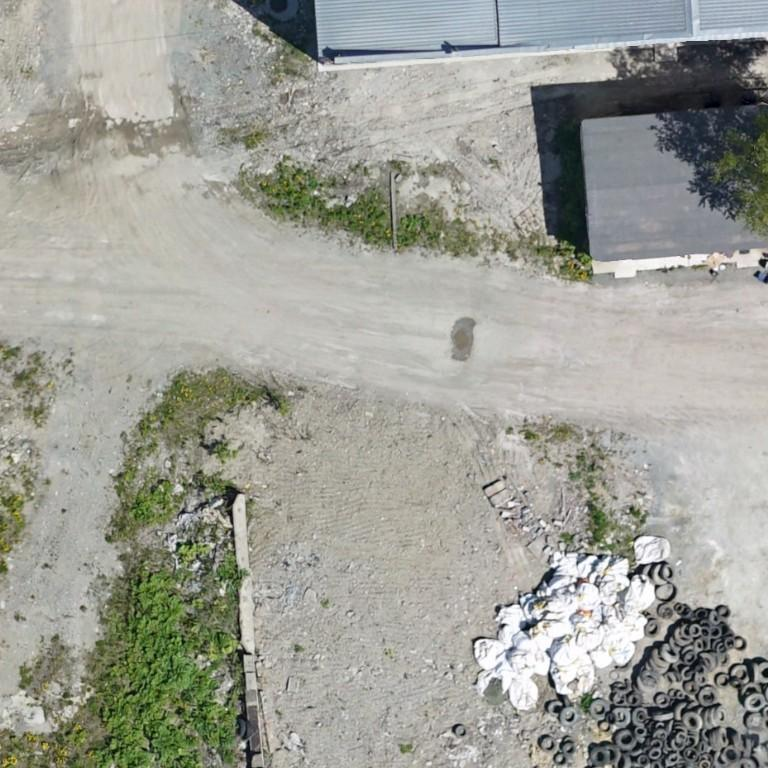hogweed: (96, 573, 235, 767)
